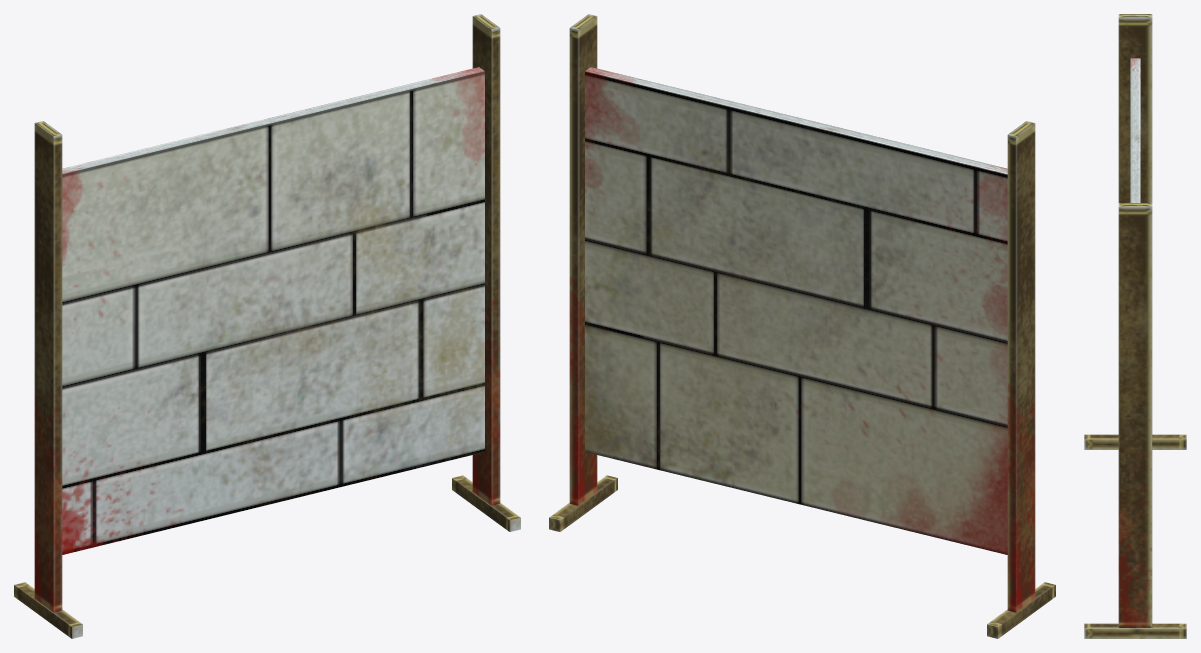
Rendered from panel.FBX.
3 views of the same model, side by side, from view 1: azimuth 30°, elevation 25°; view 2: azimuth 150°, elevation 25°; view 3: azimuth 270°, elevation 25° (orthographic). The views are drawn at different scales.
Visible parts, largest first — view 1: panel; view 2: panel; view 3: panel.
Part boxes in pixels (x1,y1,x2,y2): panel: (14, 14, 520, 638); panel: (549, 14, 1055, 638); panel: (1084, 14, 1186, 638).
Bounding box in the file's own units: 136 × 141 × 30.29.
1 material, 1 textured.
